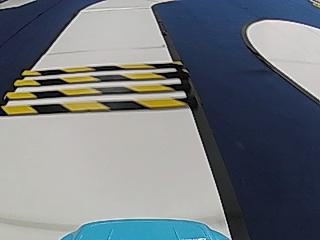bump: (1, 58, 194, 122)
